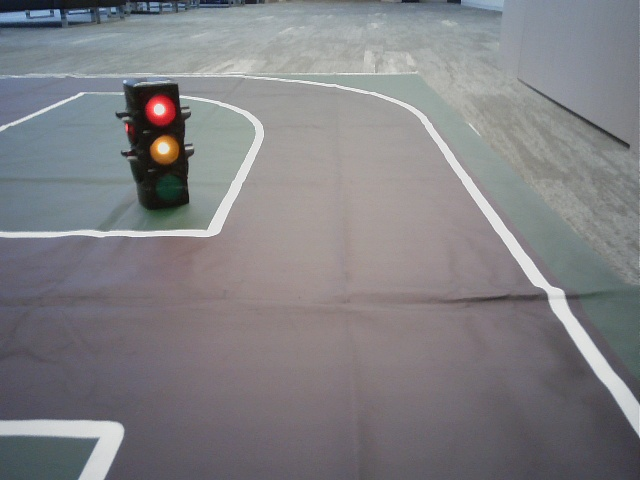red: (134, 92, 190, 206)
